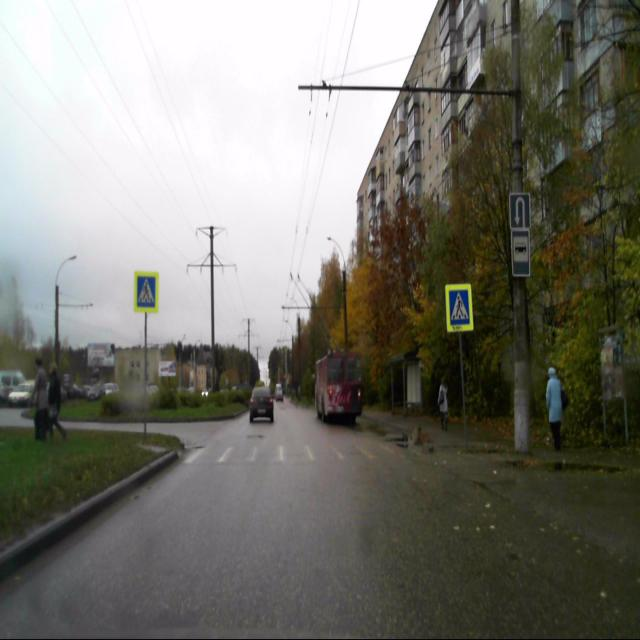road sign: (445, 283, 472, 332), (134, 271, 159, 312), (512, 230, 530, 276), (510, 192, 530, 230)
